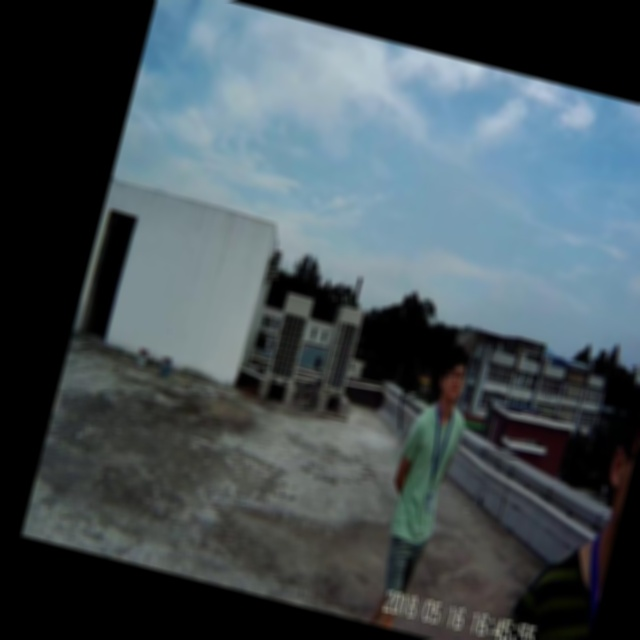Sin_Chaleco: (381, 395, 471, 547)
